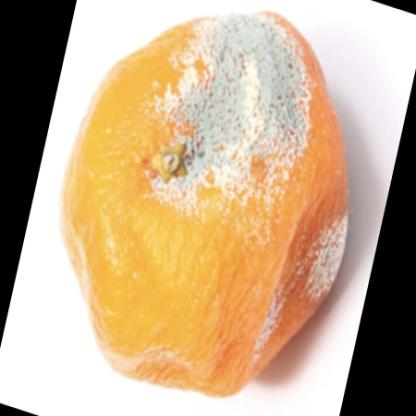rotten: (63, 10, 349, 403)
